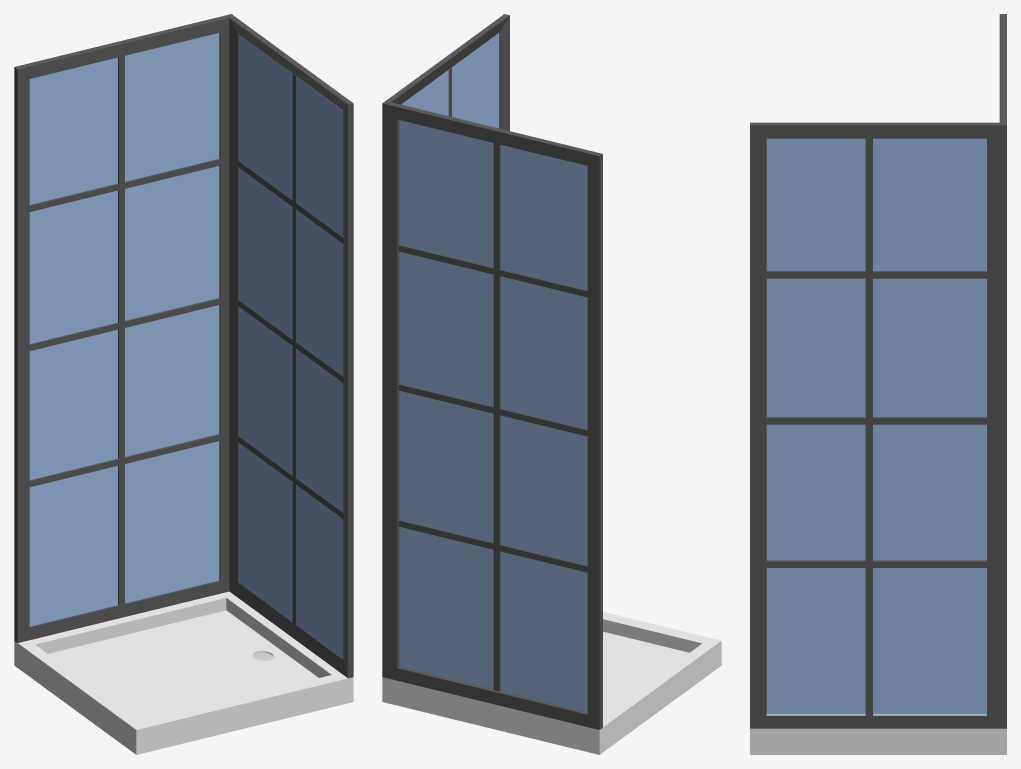
The model's file is shower.glb.
3 renders of one model, left to right at view 1: azimuth 30°, elevation 25°; view 2: azimuth 150°, elevation 25°; view 3: azimuth 270°, elevation 25°, orthographic. The views are drawn at different scales.
Parts seen in each view (by area): view 1: Mesh1_Blacktop_New_0; view 2: Mesh1_Blacktop_New_0; view 3: Mesh1_Blacktop_New_0.
Part boxes in pixels (left/top/right/bottom): Mesh1_Blacktop_New_0: left=14, top=14, right=353, bottom=754; Mesh1_Blacktop_New_0: left=382, top=14, right=721, bottom=754; Mesh1_Blacktop_New_0: left=750, top=14, right=1006, bottom=754.
Size of the model in its own units: 0.7595 by 2 by 0.7395.
